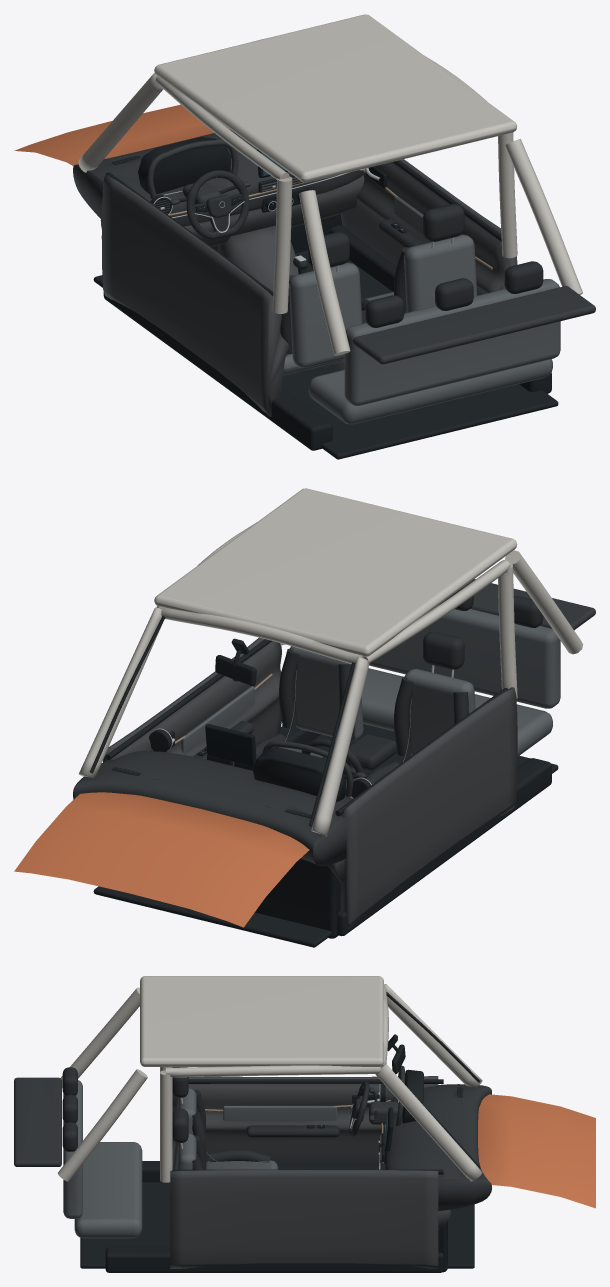
The model's file is interior.glb.
The picture shows the model from 3 angles, top to bottom: view 1: azimuth 30°, elevation 25°; view 2: azimuth 150°, elevation 25°; view 3: azimuth 270°, elevation 25°; orthographic projection. The views are drawn at different scales.
Visible parts, largest first — view 1: cabin-shell - Headliner, cabin-shell - Lower fascia, cabin-shell - Woven fabric, cabin-shell - Rubber, cabin-shell - Grained plastic, cabin-shell - Leather, cabin-shell - Body paint, instrument-mount - Rubber, steering-wheel - Leather, instrument-mount - Grained plastic; view 2: cabin-shell - Headliner, cabin-shell - Lower fascia, cabin-shell - Body paint, cabin-shell - Woven fabric, cabin-shell - Rubber, cabin-shell - Grained plastic, cabin-shell - Leather, instrument-mount - Rubber, cabin-shell - Gloss black, mirror-mount - Rubber, instrument-mount - Grained plastic; view 3: cabin-shell - Lower fascia, cabin-shell - Headliner, cabin-shell - Rubber, cabin-shell - Grained plastic, cabin-shell - Woven fabric, cabin-shell - Body paint, cabin-shell - Leather, instrument-mount - Rubber, steering-wheel - Leather.
Boxes of the visible parts, x1,y1,x2,y2 form: cabin-shell - Headliner: (78, 14, 582, 355); cabin-shell - Lower fascia: (100, 157, 517, 416); cabin-shell - Woven fabric: (283, 196, 560, 424); cabin-shell - Rubber: (93, 155, 558, 459); cabin-shell - Grained plastic: (73, 129, 595, 364); cabin-shell - Leather: (280, 204, 543, 355); cabin-shell - Body paint: (14, 104, 229, 165); instrument-mount - Rubber: (138, 137, 231, 194); steering-wheel - Leather: (186, 170, 249, 239); instrument-mount - Grained plastic: (147, 139, 238, 198); cabin-shell - Headliner: (79, 488, 583, 836); cabin-shell - Lower fascia: (103, 637, 517, 928); cabin-shell - Body paint: (14, 792, 309, 927); cabin-shell - Woven fabric: (181, 605, 560, 757); cabin-shell - Rubber: (90, 616, 558, 947); cabin-shell - Grained plastic: (73, 579, 595, 866); cabin-shell - Leather: (193, 584, 543, 784); instrument-mount - Rubber: (253, 747, 345, 801); cabin-shell - Gloss black: (165, 724, 370, 784); mirror-mount - Rubber: (215, 655, 256, 685); instrument-mount - Grained plastic: (262, 740, 353, 796); cabin-shell - Lower fascia: (170, 1076, 450, 1269); cabin-shell - Headliner: (58, 976, 482, 1182); cabin-shell - Rubber: (80, 992, 480, 1272); cabin-shell - Grained plastic: (14, 1077, 491, 1210); cabin-shell - Woven fabric: (63, 1080, 337, 1238); cabin-shell - Body paint: (478, 1094, 595, 1208); cabin-shell - Leather: (62, 1067, 339, 1169); instrument-mount - Rubber: (402, 1069, 423, 1123); steering-wheel - Leather: (349, 1082, 369, 1136).
Bounding box in the file's own units: 1.66 × 1.88 × 4.13.
